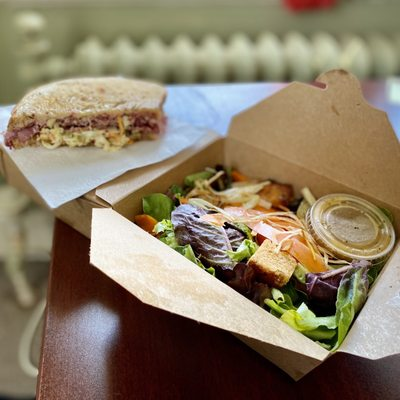soup: (3, 76, 168, 152)
